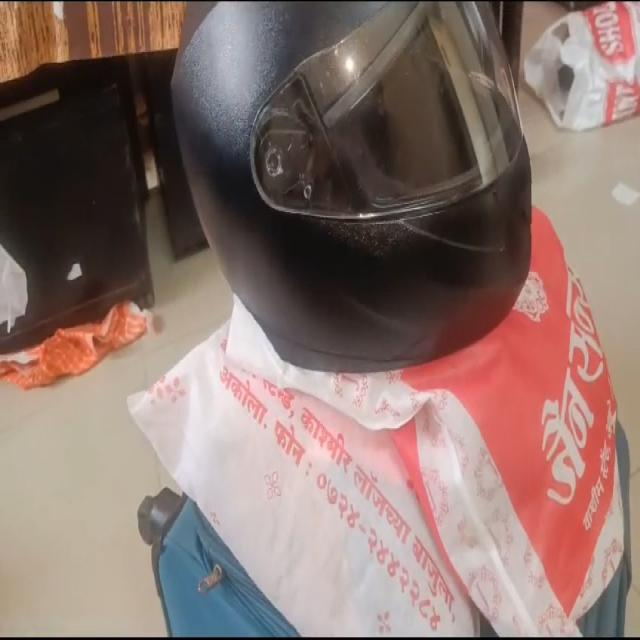Helmet: (171, 3, 532, 375)
